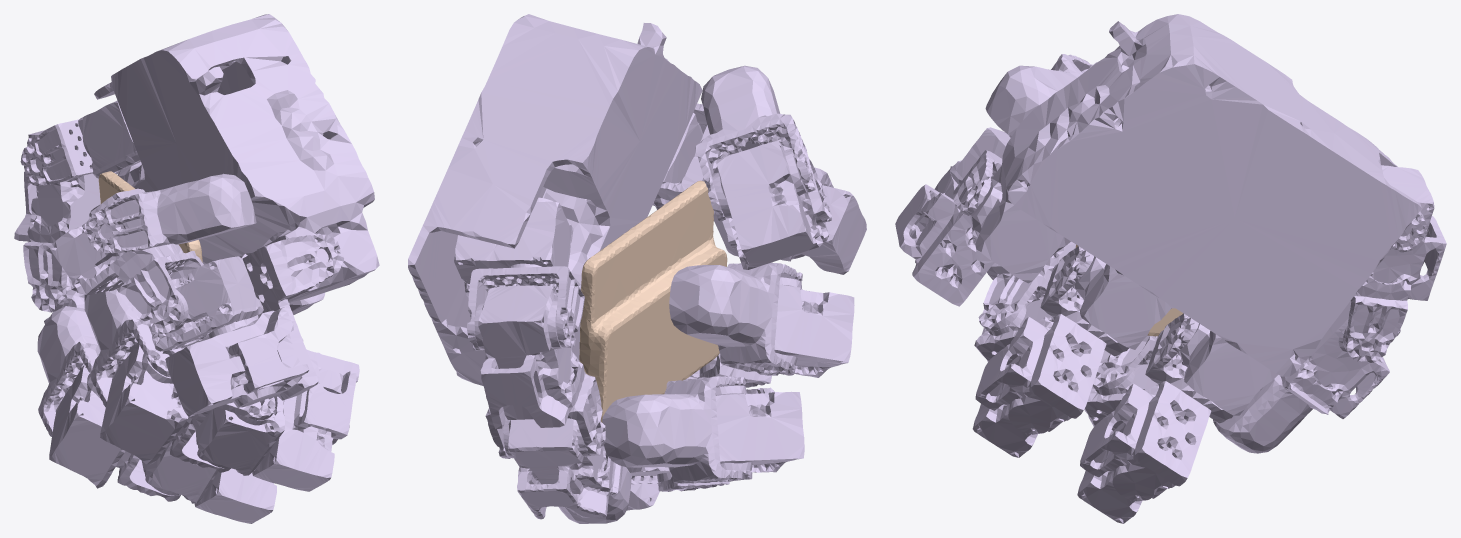
Rendered from 06d644d4efa839-final.glb.
The picture shows the model from 3 angles, left to right: view 1: azimuth 30°, elevation 25°; view 2: azimuth 150°, elevation 25°; view 3: azimuth 270°, elevation 25°; orthographic projection. The views are drawn at different scales.
Visible parts, largest first — view 1: LEAP_hand, world; view 2: LEAP_hand, world; view 3: LEAP_hand.
Boxes of the visible parts, x1,y1,x2,y2 form: LEAP_hand: (14, 14, 379, 523); world: (98, 171, 202, 262); LEAP_hand: (408, 14, 866, 523); world: (579, 180, 727, 422); LEAP_hand: (895, 14, 1446, 523).
Bounding box in the file's own units: 0.1097 × 0.1877 × 0.1925.
